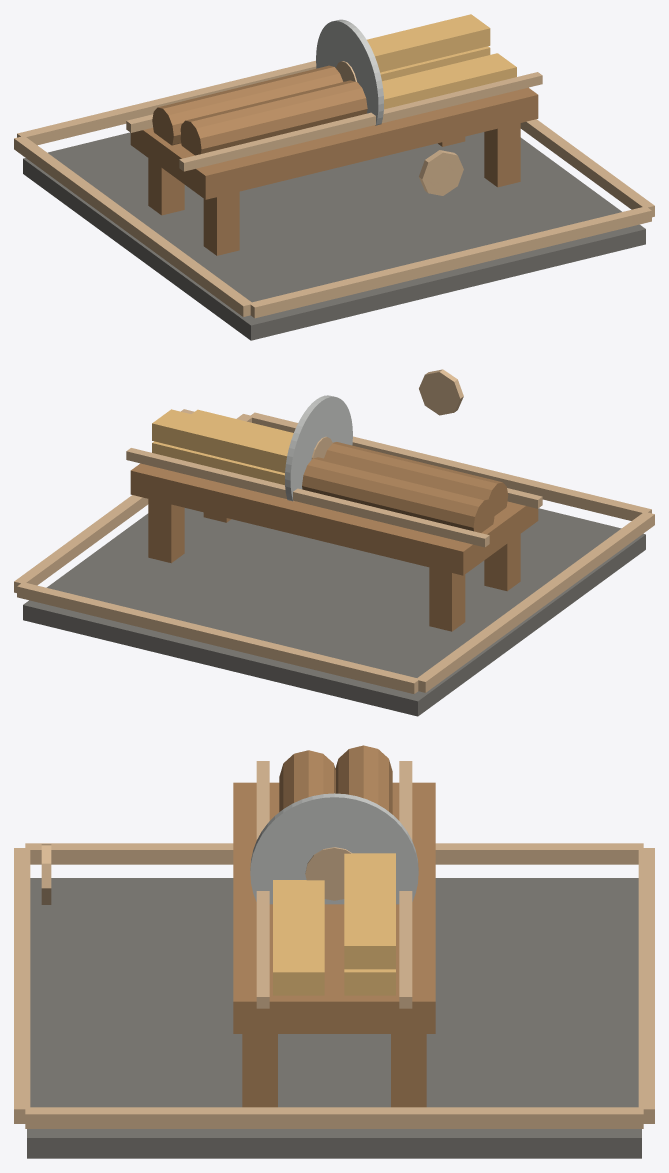
Rendered from t2_sawmill.glb.
3 views of the same model, one above another, from view 1: azimuth 30°, elevation 25°; view 2: azimuth 150°, elevation 25°; view 3: azimuth 270°, elevation 25° (orthographic). The views are drawn at different scales.
Parts seen in each view (by area): view 1: FootprintBase, TableTop, TierFrontTrim, InputLogA, TierLeftTrim, LeftRail, InputLogB, OutputPlank.001, OutputPlank.002, TierBackTrim, SawBlade, TierRightTrim (+5 smaller); view 2: FootprintBase, TableTop, TierBackTrim, InputLogB, TierLeftTrim, RightRail, OutputPlank.001, TierFrontTrim, InputLogA, SawBlade, TierRightTrim, TableLeg.001 (+6 smaller); view 3: FootprintBase, TableTop, TierRightTrim, SawBlade, TierLeftTrim, OutputPlank.001, OutputPlank.002, TierBackTrim, TierFrontTrim, InputLogB, TableLeg.002, TableLeg.003 (+6 smaller).
Part boxes in pixels (<box>): FootprintBase: <box>23,132,645,340</box>; TableTop: <box>130,87,538,199</box>; TierFrontTrim: <box>250,207,651,318</box>; InputLogA: <box>180,80,367,155</box>; TierLeftTrim: <box>14,136,253,316</box>; LeftRail: <box>179,72,542,171</box>; InputLogB: <box>152,65,343,145</box>; OutputPlank.001: <box>367,14,490,72</box>; OutputPlank.002: <box>382,53,516,109</box>; TierBackTrim: <box>17,60,316,145</box>; SawBlade: <box>316,19,383,125</box>; TierRightTrim: <box>520,119,654,217</box>; FootprintBase: <box>23,508,645,716</box>; TableTop: <box>130,463,538,575</box>; TierBackTrim: <box>17,583,419,693</box>; InputLogB: <box>302,457,494,532</box>; TierLeftTrim: <box>417,511,654,692</box>; RightRail: <box>126,448,489,547</box>; OutputPlank.001: <box>152,409,291,472</box>; TierFrontTrim: <box>250,412,651,520</box>; InputLogA: <box>324,442,508,515</box>; SawBlade: <box>285,395,352,501</box>; TierRightTrim: <box>14,414,252,592</box>; TableLeg.001: <box>429,567,465,631</box>; FootprintBase: <box>27,878,641,1158</box>; TableTop: <box>233,782,435,1033</box>; TierRightTrim: <box>25,1107,643,1128</box>; SawBlade: <box>250,793,418,904</box>; TierLeftTrim: <box>25,843,643,864</box>; OutputPlank.001: <box>344,853,395,969</box>; OutputPlank.002: <box>273,880,324,995</box>; TierBackTrim: <box>638,848,654,1123</box>; TierFrontTrim: <box>14,848,30,1123</box>; InputLogB: <box>335,745,392,814</box>; TableLeg.002: <box>242,1034,277,1107</box>; TableLeg.003: <box>391,1034,426,1107</box>.
Size of the model in its own units: 3.96 by 1.66 by 3.96.
